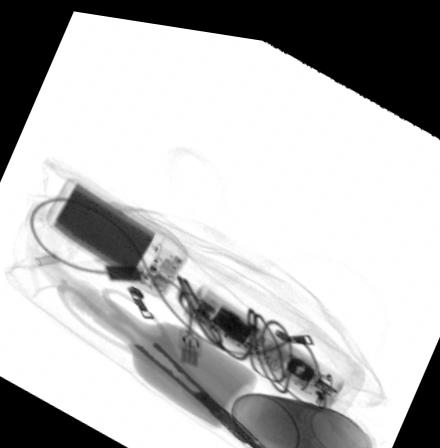Scissors: (54, 279, 280, 448), (46, 174, 189, 296)
